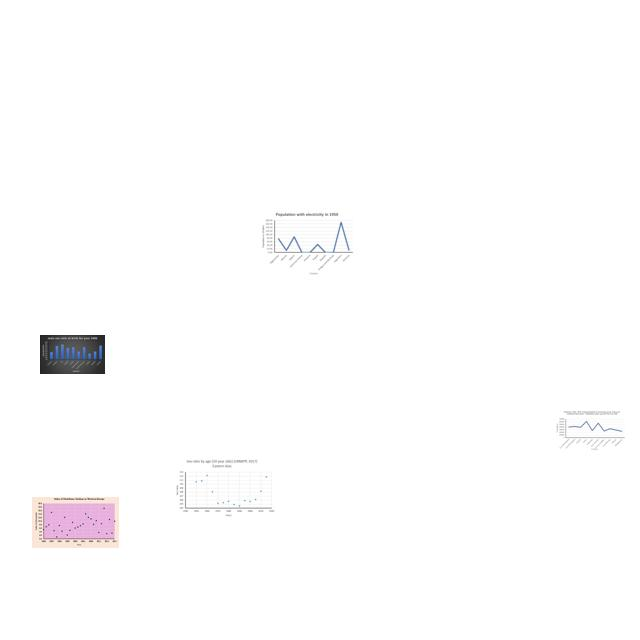Graph: (259, 210, 355, 278), (174, 458, 276, 519), (32, 497, 119, 548), (555, 410, 625, 451), (40, 335, 105, 374)
